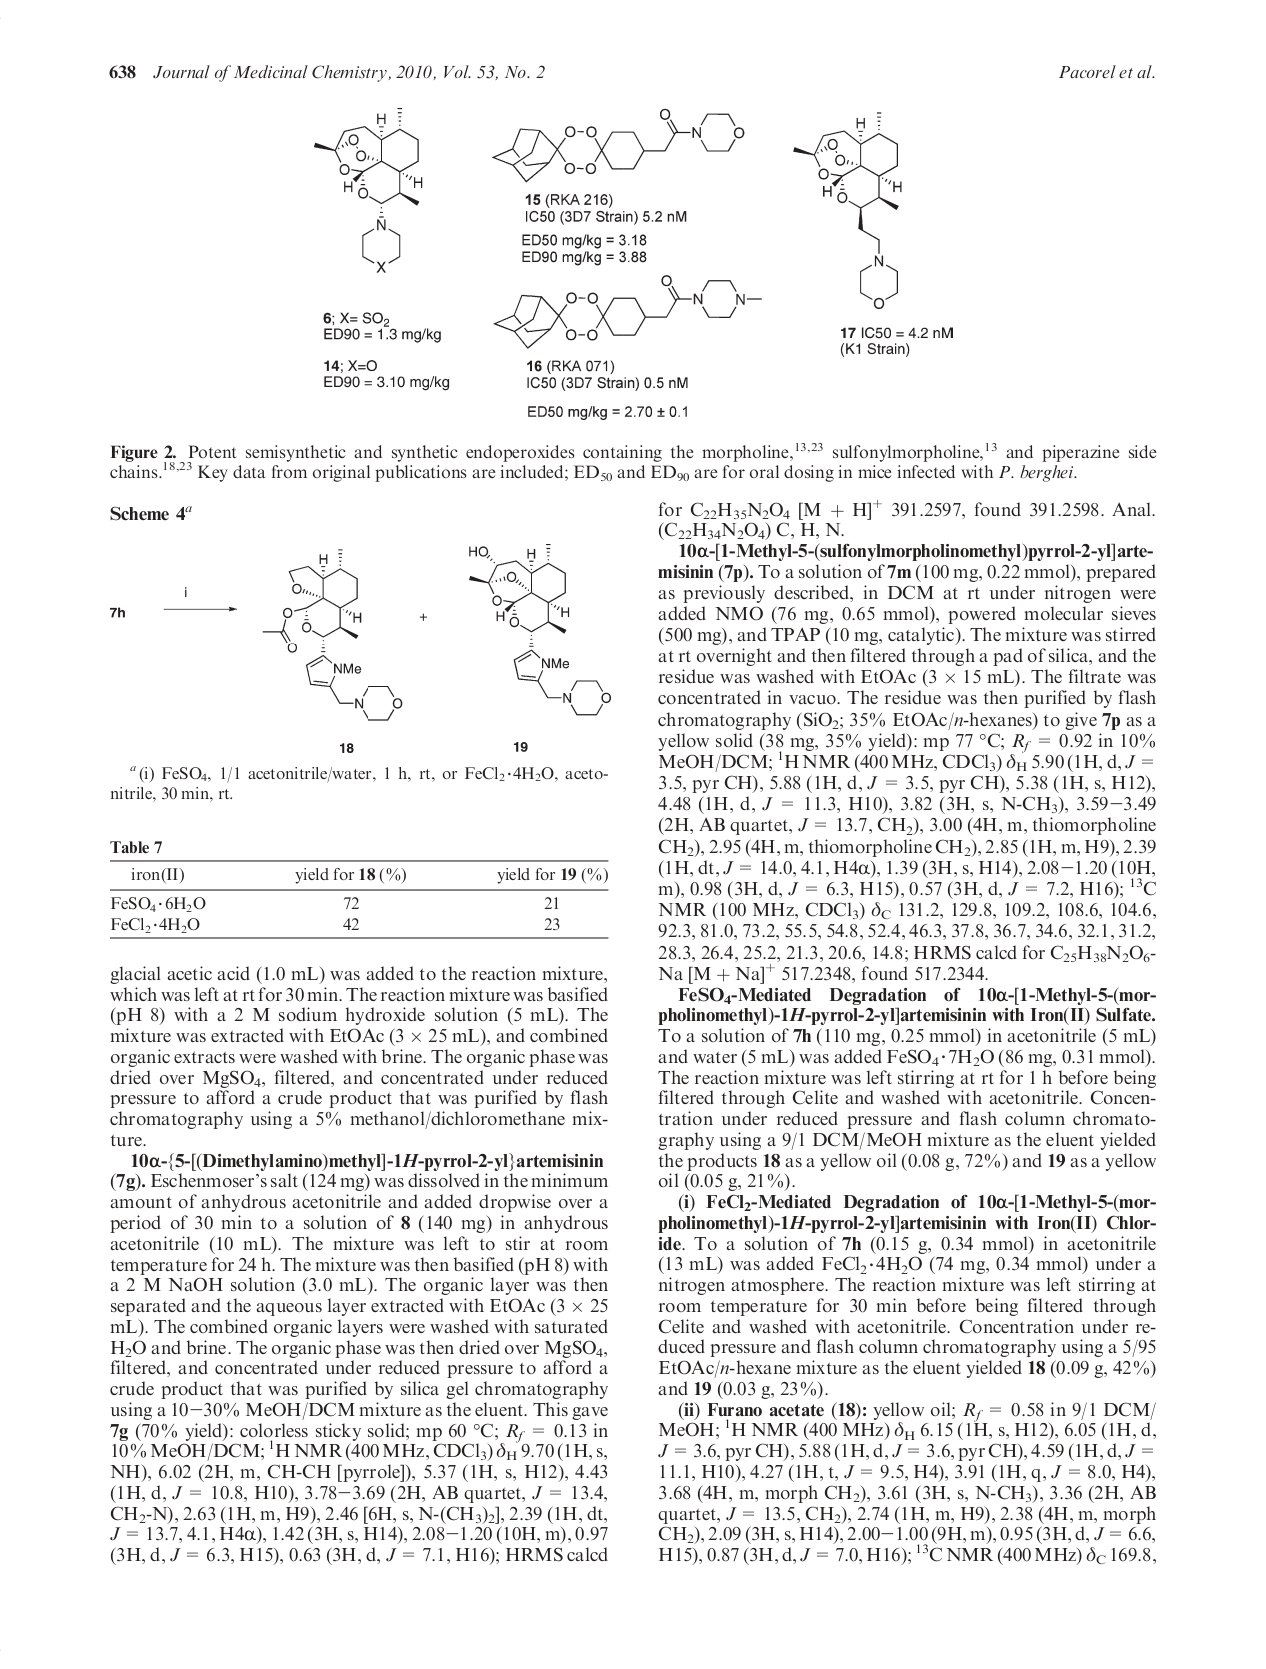exist_molecular: (467, 541, 614, 719), (261, 547, 404, 723), (793, 110, 906, 309), (492, 273, 763, 350), (492, 108, 746, 186), (313, 106, 424, 273)
